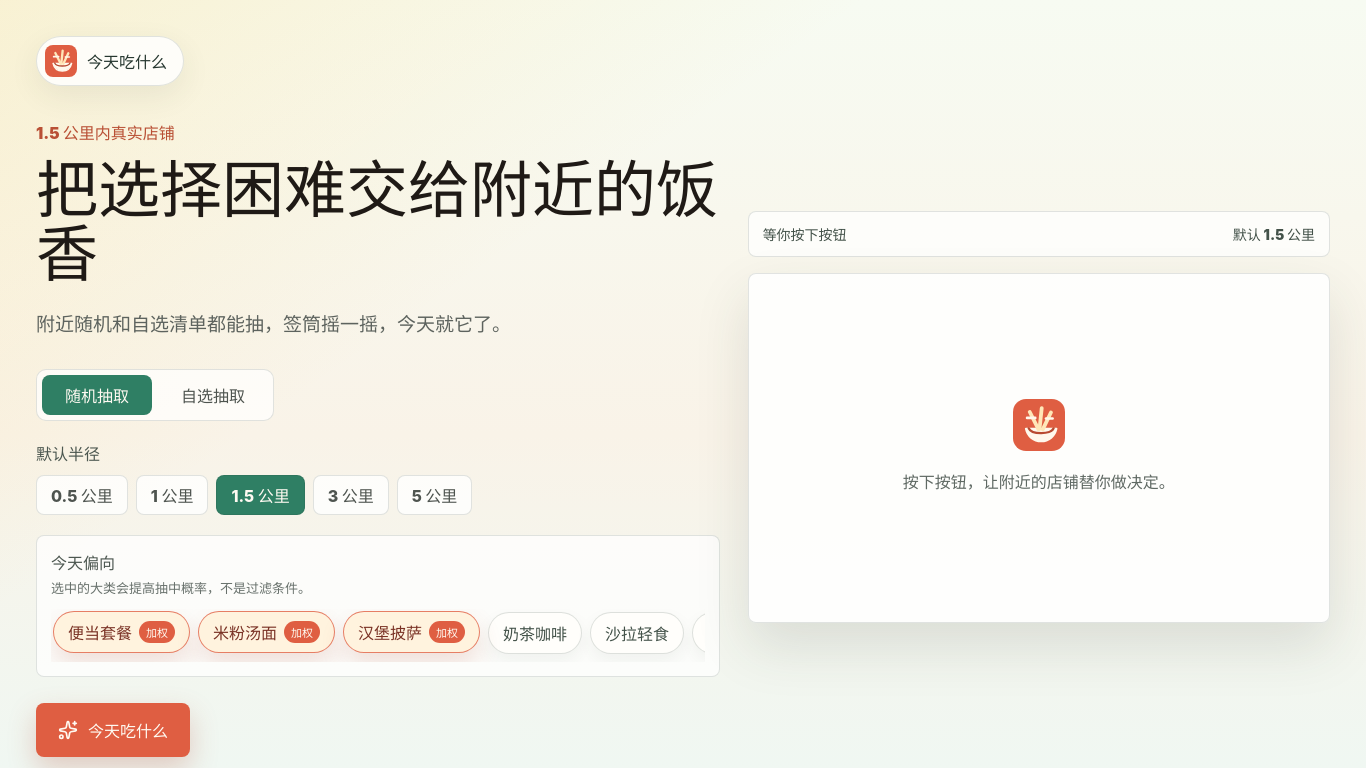
Test case: App › gets location, fetches nearby food, and shows a recommendation
The width and height of the screenshot is (1366, 768).
Click the button "今天吃什么" at (113, 730), box [36,703,190,757]
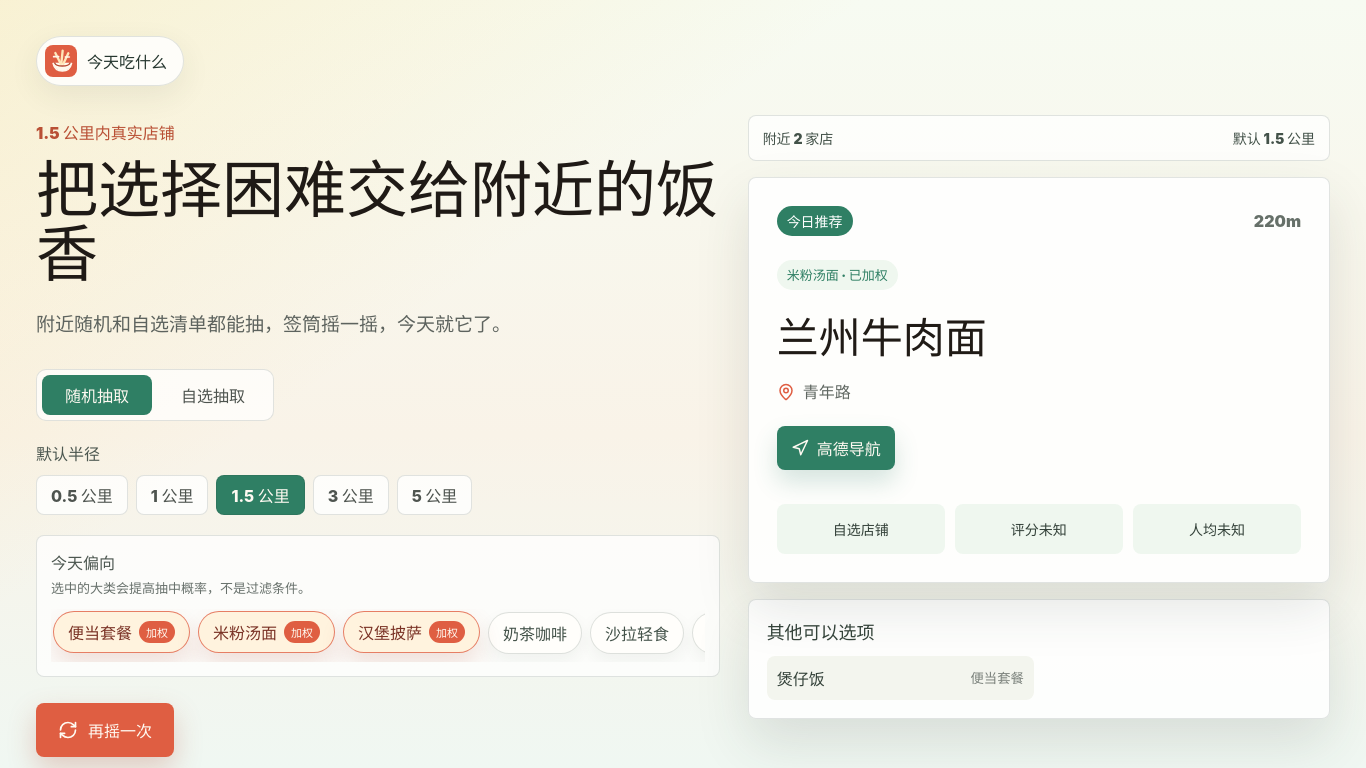
Expected: the text "今日推荐" is shown, [777,206,853,236]
Expected: the heading "兰州牛肉面" is shown, [777,312,987,363]
Expected: the text "青年路" is shown, [803,380,851,406]
